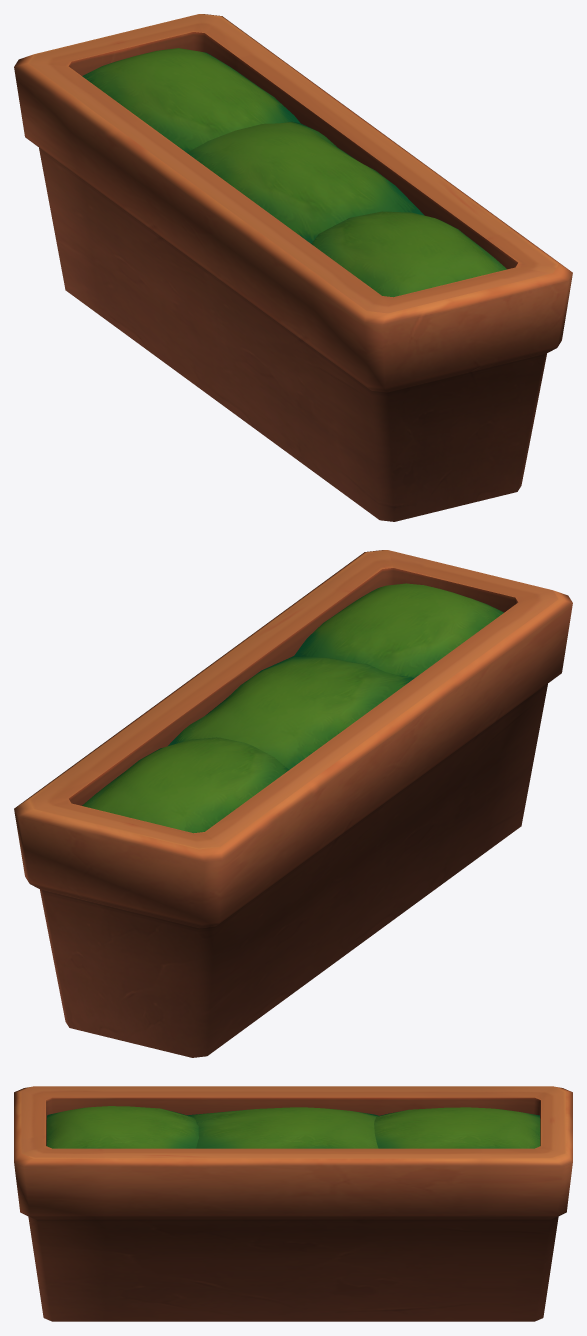
File: SE_Pot_02a.fbx
3 renders of one model, top to bottom at view 1: azimuth 30°, elevation 25°; view 2: azimuth 150°, elevation 25°; view 3: azimuth 270°, elevation 25°, orthographic. The views are drawn at different scales.
Visible parts, largest first — view 1: SE_Pot_02a; view 2: SE_Pot_02a; view 3: SE_Pot_02a.
Part boxes in pixels (x1,y1,x2,y2): SE_Pot_02a: (14,14,572,521); SE_Pot_02a: (14,550,572,1057); SE_Pot_02a: (14,1086,572,1321).
Bounding box in the file's own units: 1.48 × 1.6 × 4.48.
